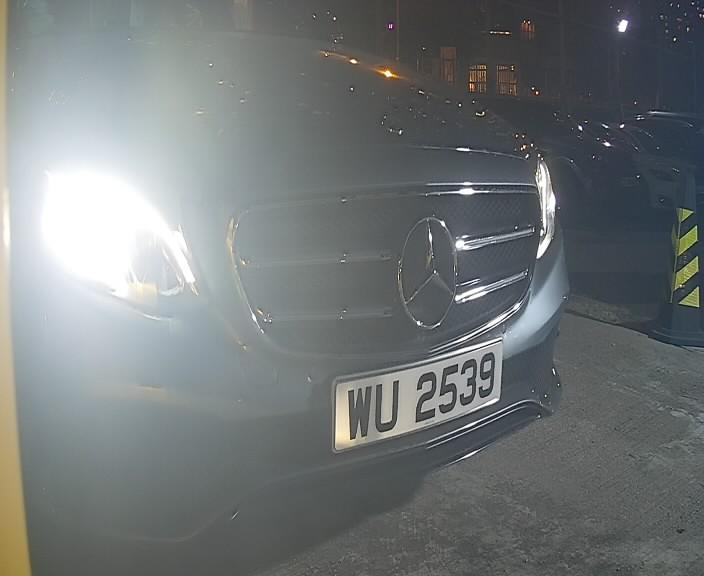License Plate: (316, 323, 513, 474)
